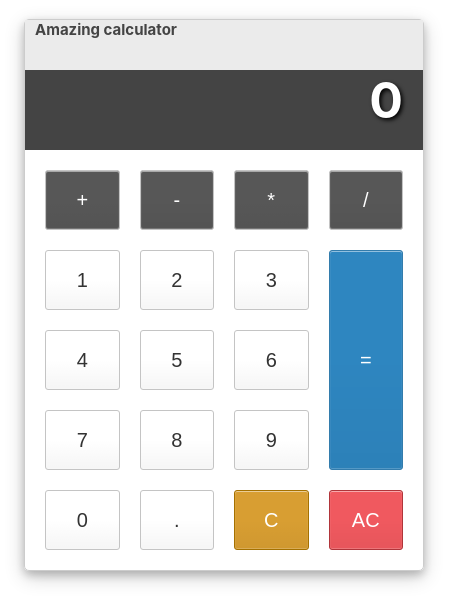
Test case: testing sum operator
The image size is (449, 601).
What coordinates should you click on to do the following:
click the button "1"
I would click on:
 (82, 280)
Its box is x1=45 y1=250 x2=120 y2=310.
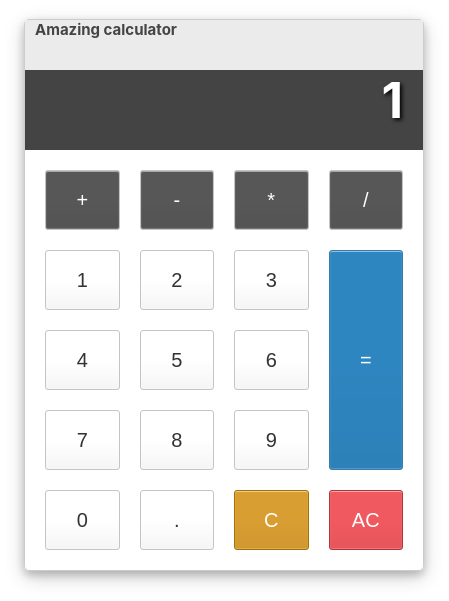
What coordinates should you click on to do the following:
click the button "+"
I would click on:
 (82, 200)
Its box is x1=45 y1=170 x2=120 y2=230.
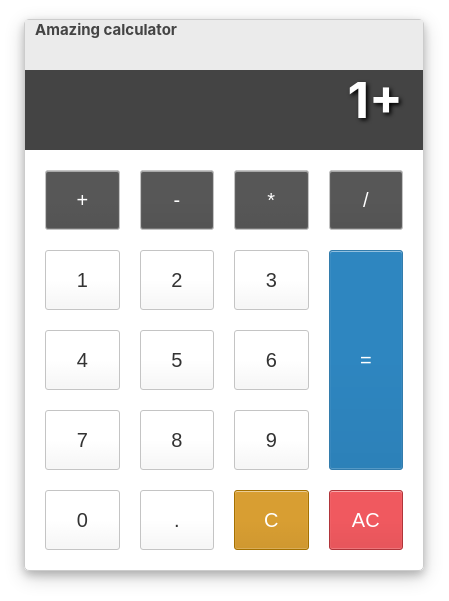
What coordinates should you click on to do the following:
click the button "5"
I would click on:
 (177, 360)
Its box is x1=140 y1=330 x2=214 y2=390.
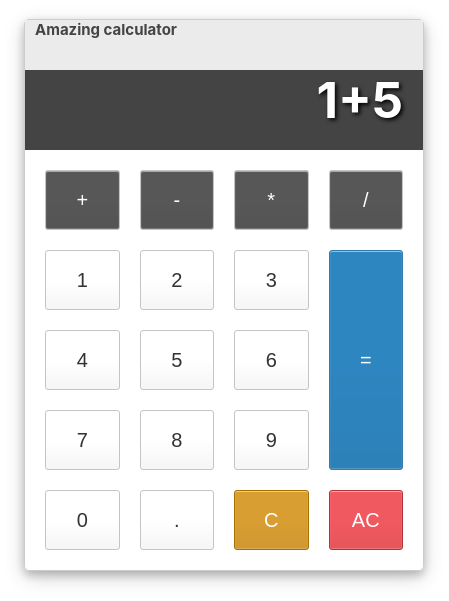
What coordinates should you click on to do the following:
click the button "="
I would click on:
 (366, 360)
Its box is x1=328 y1=250 x2=403 y2=470.
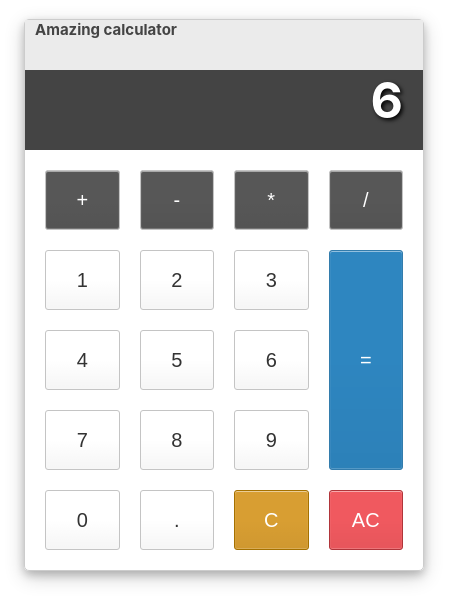
Now the heading with test id "screen" reads "6", box x1=370 y1=70 x2=403 y2=130
